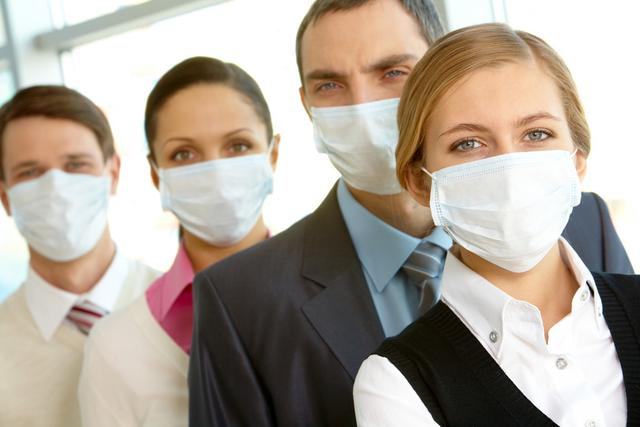mask: (419, 76, 588, 271), (296, 21, 432, 199), (146, 97, 285, 243), (5, 119, 112, 260)
